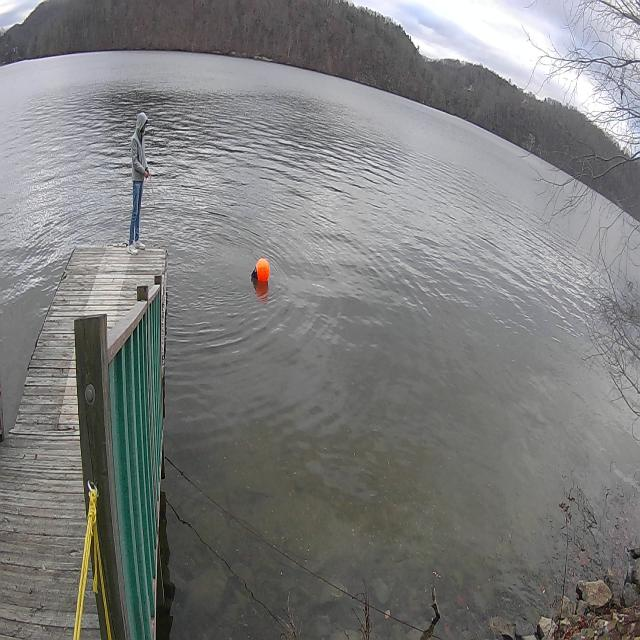Buoy: (249, 251, 274, 292)
